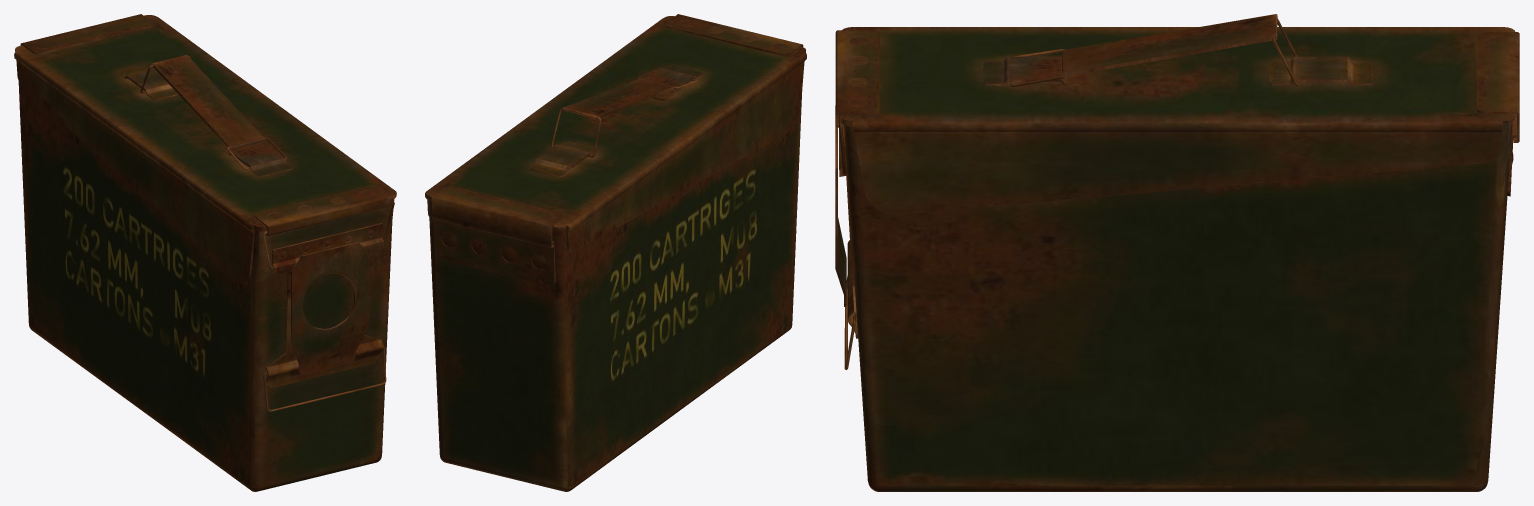
The model's file is ammo.glb.
3 views of the same model, side by side, from view 1: azimuth 30°, elevation 25°; view 2: azimuth 150°, elevation 25°; view 3: azimuth 270°, elevation 25° (orthographic). The views are drawn at different scales.
Parts seen in each view (by area): view 1: ammo_box, ammo_box_handle, ammo_box_latch; view 2: ammo_box, ammo_box_handle; view 3: ammo_box, ammo_box_handle.
Part boxes in pixels (x1,y1,x2,y2): ammo_box: (14,14,396,491); ammo_box_handle: (152,54,265,149); ammo_box_latch: (263,345,386,411); ammo_box: (425,14,806,491); ammo_box_handle: (562,78,675,119); ammo_box: (835,27,1519,491); ammo_box_handle: (1062,14,1277,76).
Size of the model in its own units: 0.0865 by 0.1775 by 0.2578.
1 material, 1 textured.
